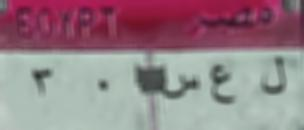0: (90, 68, 123, 104)
3: (18, 62, 60, 99)
ain: (205, 63, 240, 109)
laam: (256, 52, 289, 99)
seen: (160, 71, 202, 106)
